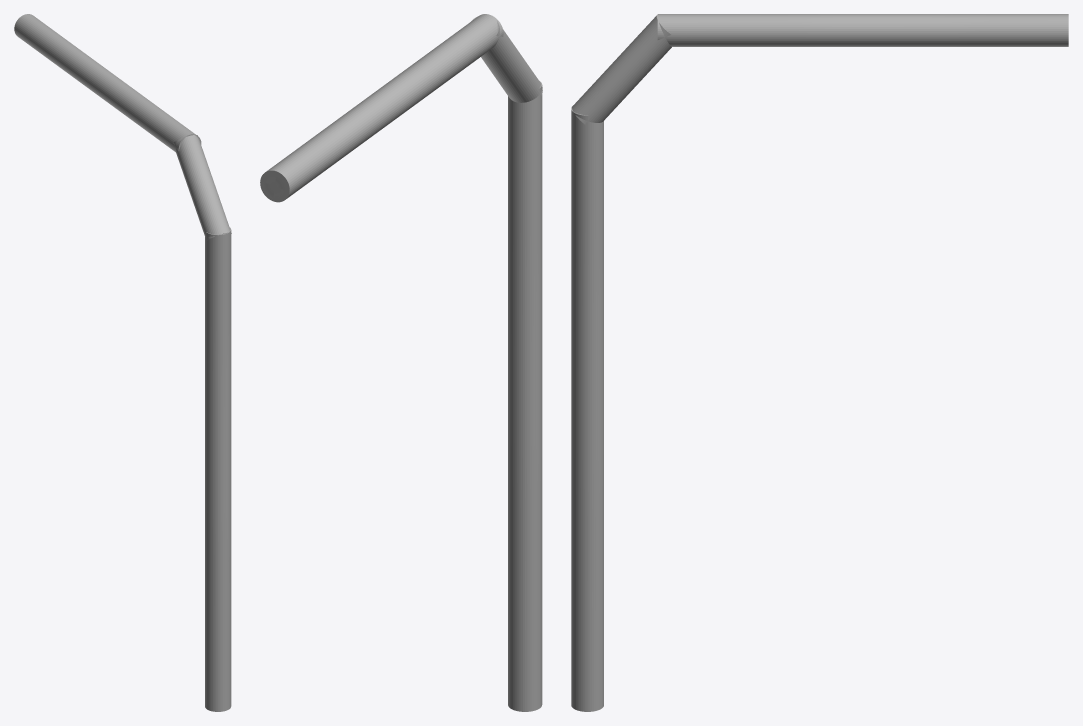
File: signal_pole_angled.obj
3 renders of one model, left to right at view 1: azimuth 30°, elevation 25°; view 2: azimuth 150°, elevation 25°; view 3: azimuth 270°, elevation 25°, orthographic. The views are drawn at different scales.
Parts seen in each view (by area): view 1: cylinder; view 2: cylinder; view 3: cylinder.
Part boxes in pixels (x1=…): cylinder: x1=14, y1=14, x2=231, y2=711; cylinder: x1=260, y1=14, x2=542, y2=711; cylinder: x1=571, y1=14, x2=1068, y2=711.
Bounding box in the file's own units: 0.125 × 2.89 × 1.89.
1 material, 1 textured.
